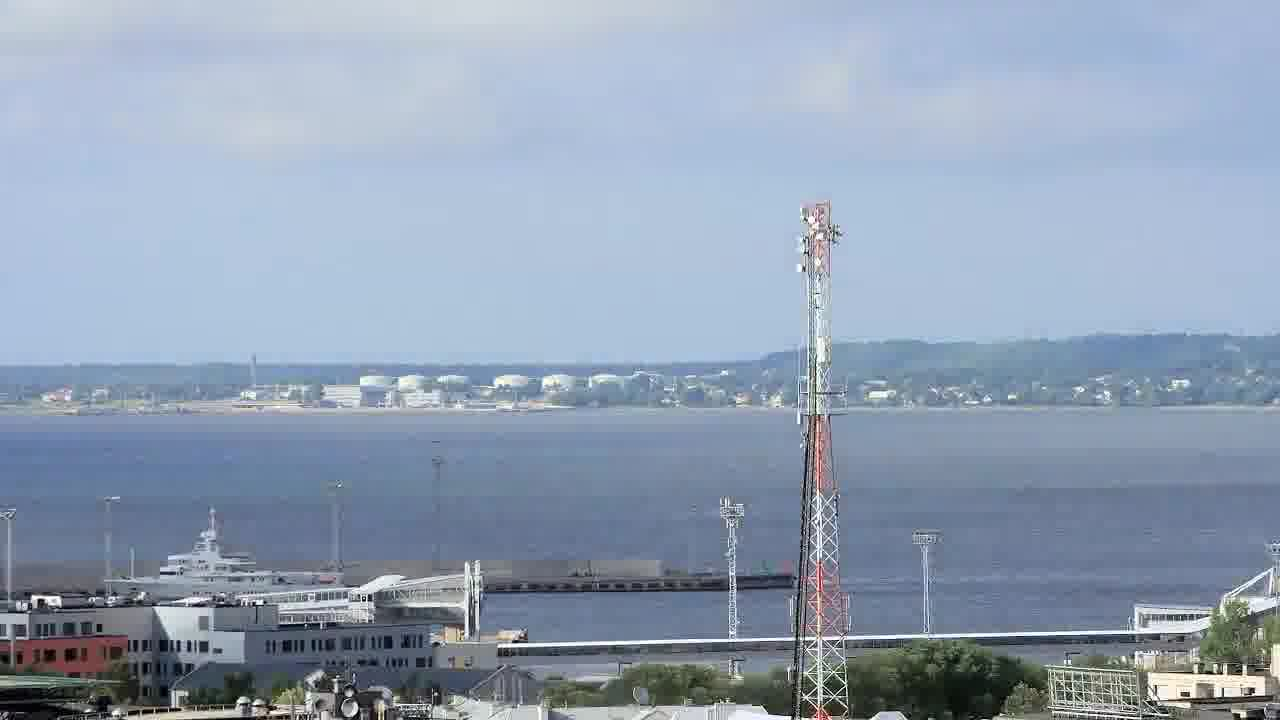type-3: (98, 503, 361, 603)
